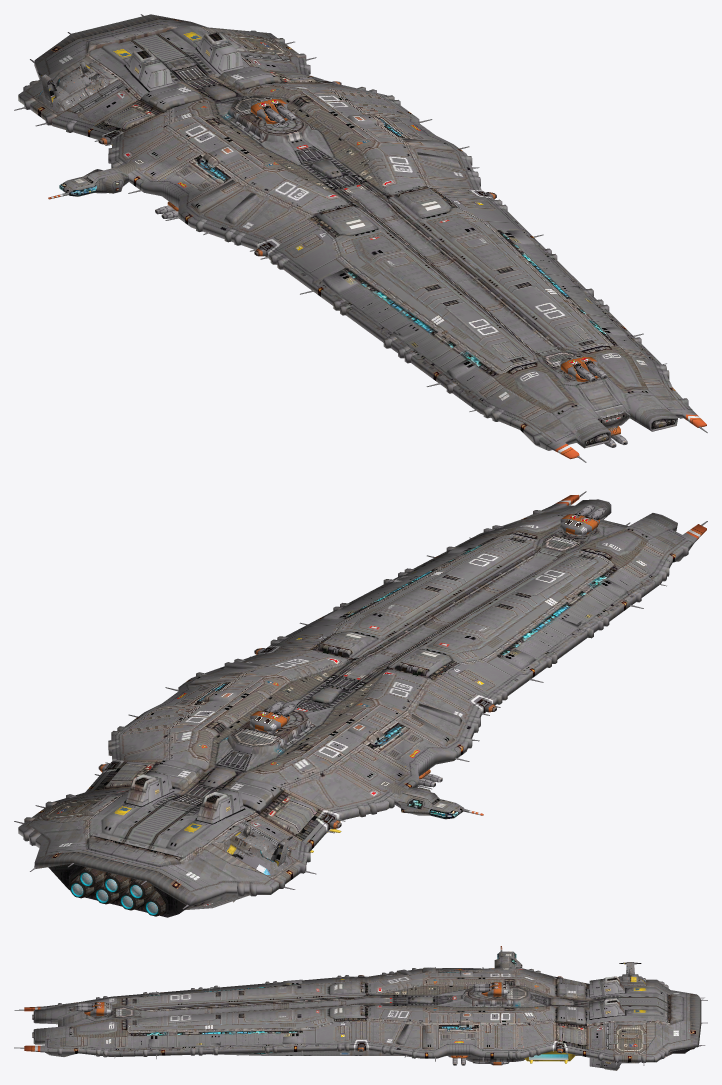
Rendered from hgn_battlecruiser_modified.fbx.
The picture shows the model from 3 angles, top to bottom: view 1: azimuth 30°, elevation 25°; view 2: azimuth 150°, elevation 25°; view 3: azimuth 270°, elevation 25°; orthographic projection. The views are drawn at different scales.
Parts seen in each view (by area): view 1: hgn_battlecruiser.2; view 2: hgn_battlecruiser.2, Turret Base.5, Turret Base.2; view 3: hgn_battlecruiser.2, Turret Base.5, Turret Base.2.
Boxes of the visible parts, <box> form: hgn_battlecruiser.2: <box>14,14,707,462</box>; hgn_battlecruiser.2: <box>14,491,707,917</box>; Turret Base.5: <box>249,710,289,732</box>; Turret Base.2: <box>560,514,599,536</box>; hgn_battlecruiser.2: <box>14,946,707,1070</box>; Turret Base.5: <box>481,982,509,996</box>; Turret Base.2: <box>84,1002,112,1016</box>.
Bounding box in the file's own units: 3777 × 1166 × 9611.
